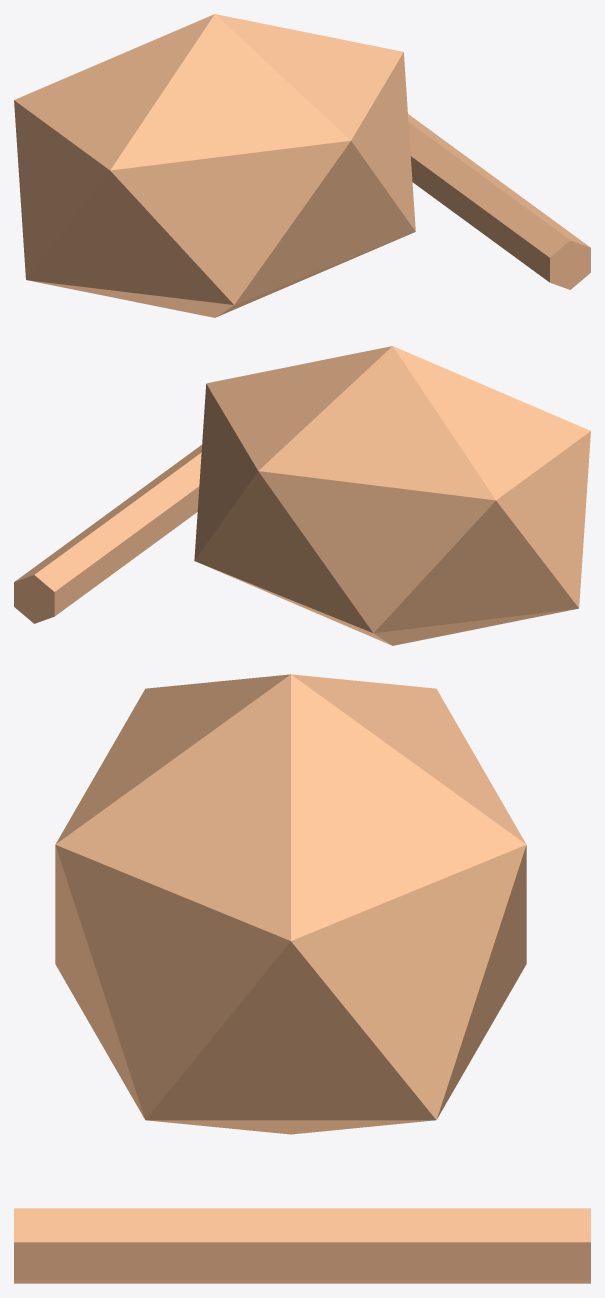
3 renders of one model, top to bottom at view 1: azimuth 30°, elevation 25°; view 2: azimuth 150°, elevation 25°; view 3: azimuth 270°, elevation 25°, orthographic. The views are drawn at different scales.
Parts seen in each view (by area): view 1: Wooden fish drum, Mallet; view 2: Wooden fish drum, Mallet; view 3: Wooden fish drum, Mallet.
Boxes of the visible parts, <box> form: Wooden fish drum: <box>14,14,415,317</box>; Mallet: <box>408,114,590,289</box>; Wooden fish drum: <box>194,346,590,645</box>; Mallet: <box>14,445,201,623</box>; Wooden fish drum: <box>55,674,526,1134</box>; Mallet: <box>14,1208,590,1283</box>.
Bounding box in the file's own units: 0.3587 × 0.22 × 0.25.
Materials: 1 (1 with a texture image).
